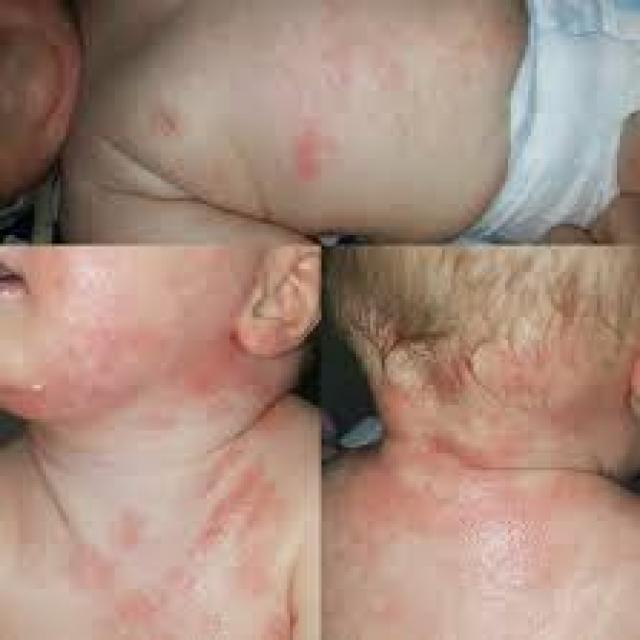Acanthosis Nigricans: (21, 365, 291, 507), (358, 390, 619, 509)
